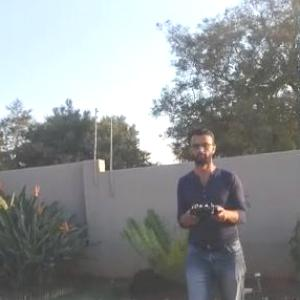follow: (172, 120, 253, 299)
